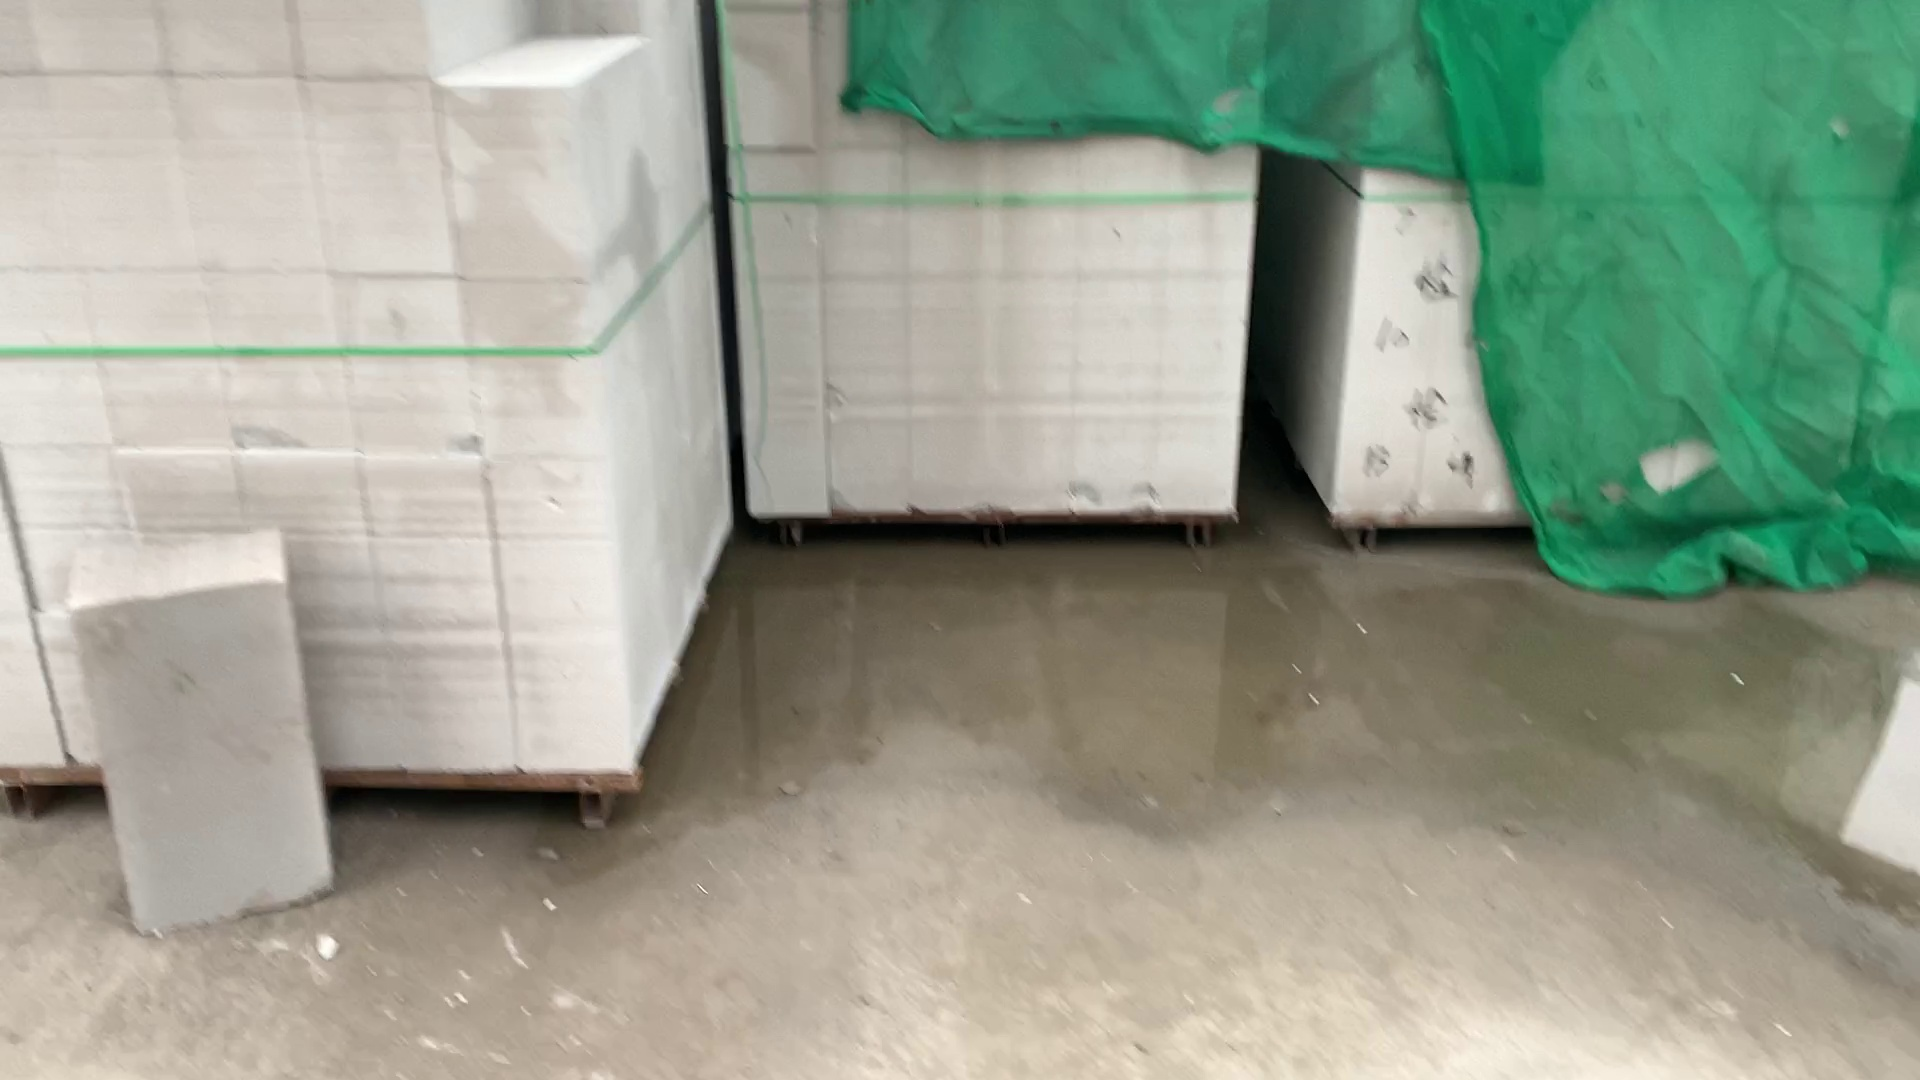brickwork: (4, 7, 641, 810), (717, 3, 1240, 524), (1341, 7, 1855, 527)
